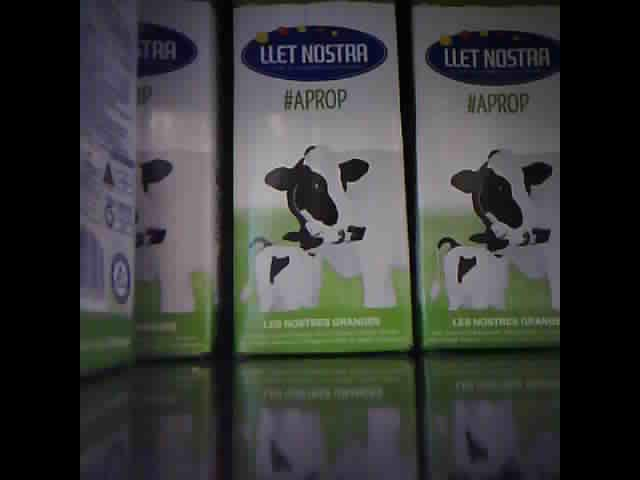leche: (231, 4, 409, 358), (414, 7, 561, 352), (135, 5, 219, 363), (81, 4, 139, 377)
